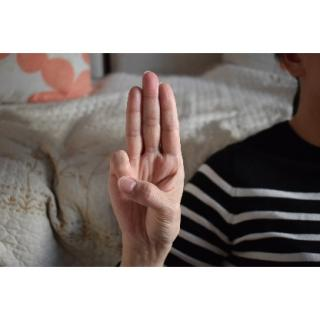THA: (105, 67, 188, 255)
